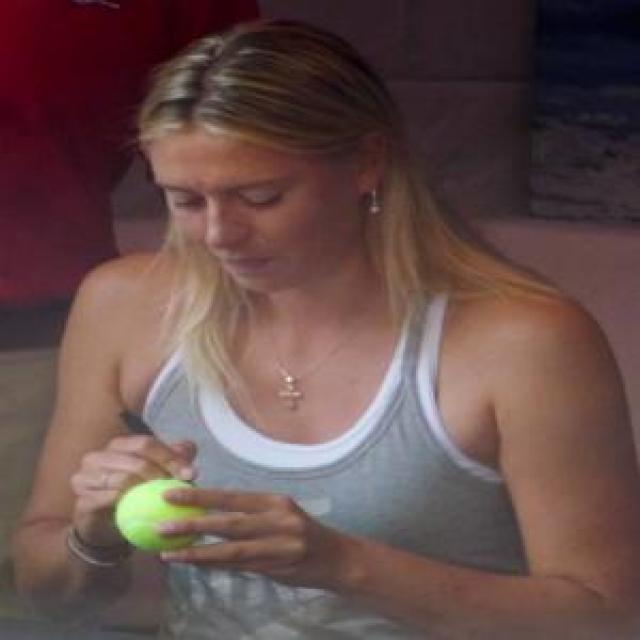Tennis-Ball: (118, 480, 212, 550)
